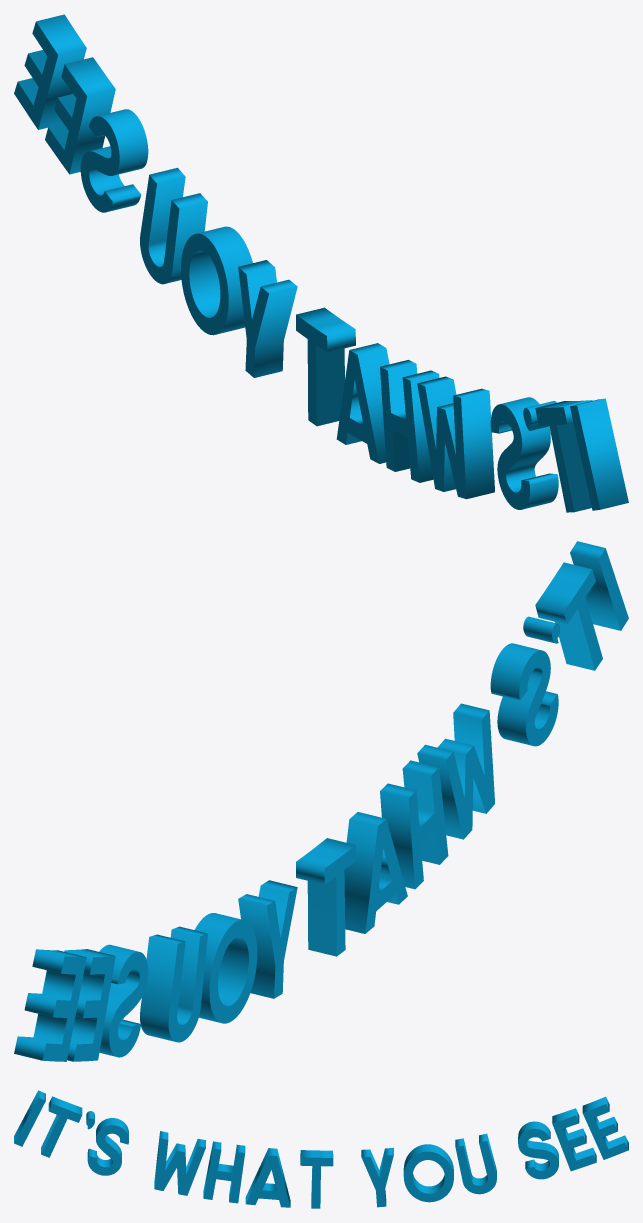
3 views of the same model, one above another, from view 1: azimuth 30°, elevation 25°; view 2: azimuth 150°, elevation 25°; view 3: azimuth 270°, elevation 25° (orthographic). The views are drawn at different scales.
Parts seen in each view (by area): view 1: Text; view 2: Text; view 3: Text.
Boxes of the visible parts, x1=… form: Text: x1=14, y1=14, x2=628, y2=512; Text: x1=14, y1=541, x2=628, y2=1061; Text: x1=14, y1=1090, x2=628, y2=1208.
Bounding box in the file's own units: 0.24 × 1.7 × 8.53.
